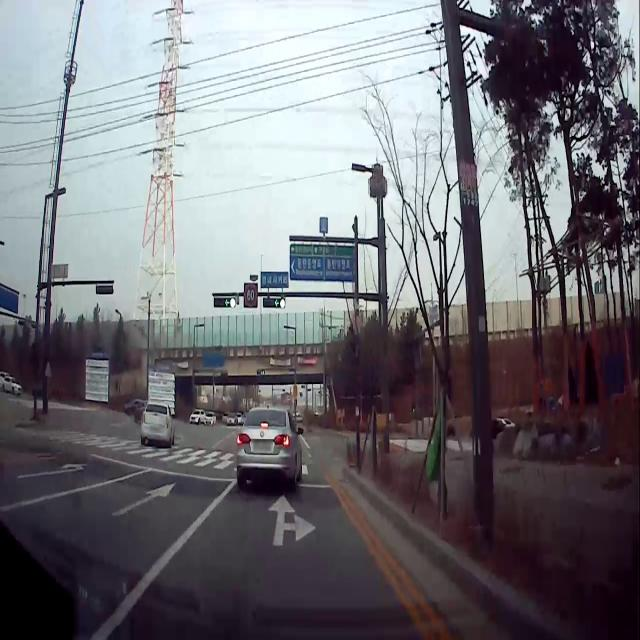Green Light: (230, 298, 236, 308), (280, 298, 285, 308)
